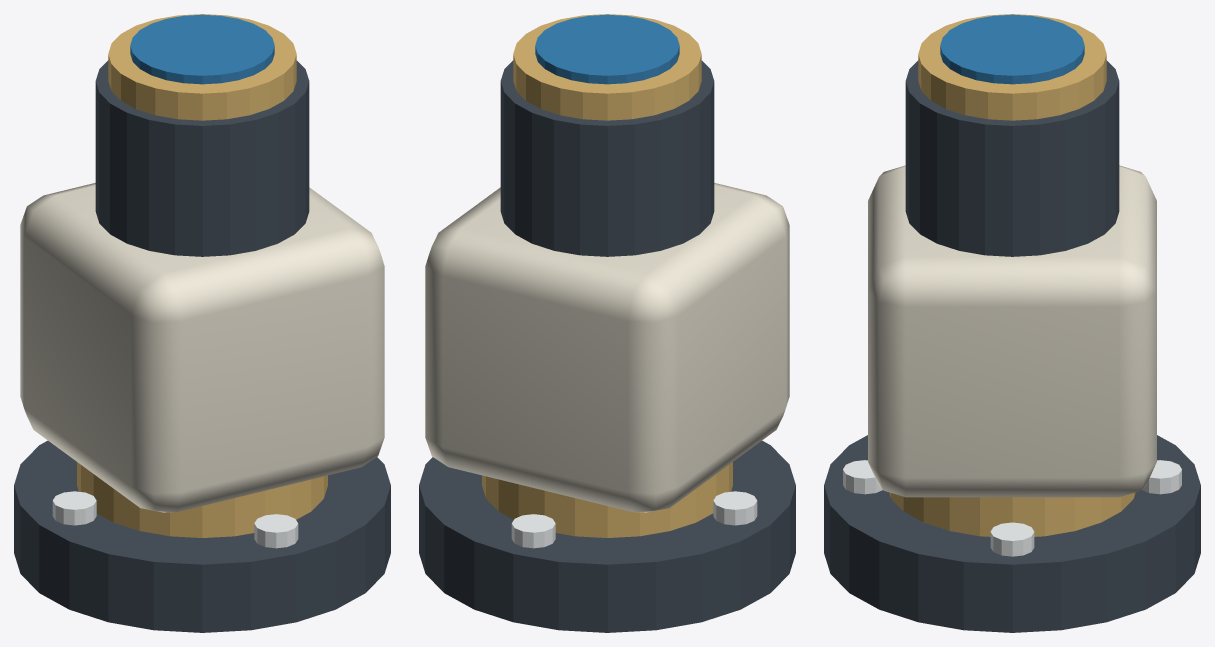
Rendered from star_tracker.glb.
3 renders of one model, left to right at view 1: azimuth 30°, elevation 25°; view 2: azimuth 150°, elevation 25°; view 3: azimuth 270°, elevation 25°, orthographic.
Parts seen in each view (by area): view 1: Tracker_Body, Mount_Flange, Optical_Barrel, Lens_Rim, Star_Lens, Mount_Collar, Mount_Bolt_002, Mount_Bolt_003; view 2: Tracker_Body, Mount_Flange, Optical_Barrel, Lens_Rim, Star_Lens, Mount_Collar, Mount_Bolt_002, Mount_Bolt_001; view 3: Tracker_Body, Mount_Flange, Optical_Barrel, Lens_Rim, Star_Lens, Mount_Collar, Mount_Bolt, Mount_Bolt_001, Mount_Bolt_003.
Boxes of the visible parts, left/top/right/bottom form: Tracker_Body: left=20, top=183, right=384, bottom=512; Mount_Flange: left=14, top=440, right=390, bottom=632; Optical_Barrel: left=95, top=60, right=309, bottom=256; Lens_Rim: left=108, top=14, right=296, bottom=120; Star_Lens: left=130, top=14, right=274, bottom=84; Mount_Collar: left=77, top=462, right=327, bottom=537; Mount_Bolt_002: left=52, top=491, right=96, bottom=525; Mount_Bolt_003: left=254, top=514, right=298, bottom=548; Tracker_Body: left=425, top=183, right=789, bottom=512; Mount_Flange: left=419, top=440, right=795, bottom=632; Optical_Barrel: left=500, top=60, right=714, bottom=256; Lens_Rim: left=513, top=14, right=701, bottom=120; Star_Lens: left=535, top=14, right=679, bottom=84; Mount_Collar: left=482, top=462, right=732, bottom=537; Mount_Bolt_002: left=713, top=491, right=757, bottom=525; Mount_Bolt_001: left=511, top=514, right=555, bottom=548; Tracker_Body: left=868, top=165, right=1156, bottom=497; Mount_Flange: left=824, top=435, right=1200, bottom=632; Optical_Barrel: left=905, top=60, right=1119, bottom=256; Lens_Rim: left=918, top=14, right=1106, bottom=120; Star_Lens: left=940, top=14, right=1084, bottom=84; Mount_Collar: left=889, top=492, right=1135, bottom=536; Mount_Bolt: left=990, top=522, right=1034, bottom=556; Mount_Bolt_001: left=1142, top=460, right=1181, bottom=494; Mount_Bolt_003: left=843, top=460, right=882, bottom=494.
Size of the model in its own units: 0.6 by 0.8925 by 0.6.
